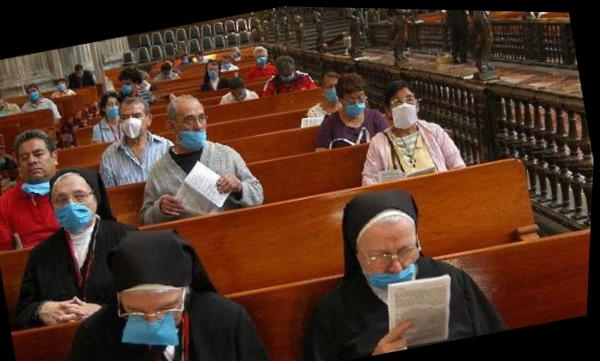OK: (51, 182, 103, 232), (386, 91, 421, 126), (119, 106, 151, 139), (343, 90, 369, 116), (320, 75, 345, 102), (102, 97, 122, 119), (279, 65, 298, 83), (254, 49, 269, 66), (122, 79, 137, 95), (206, 65, 221, 80), (232, 86, 248, 100), (29, 89, 41, 102), (57, 80, 69, 91), (1, 98, 6, 110)
WRONG: (118, 289, 193, 351), (368, 235, 431, 296), (17, 144, 62, 194), (172, 106, 212, 149)
